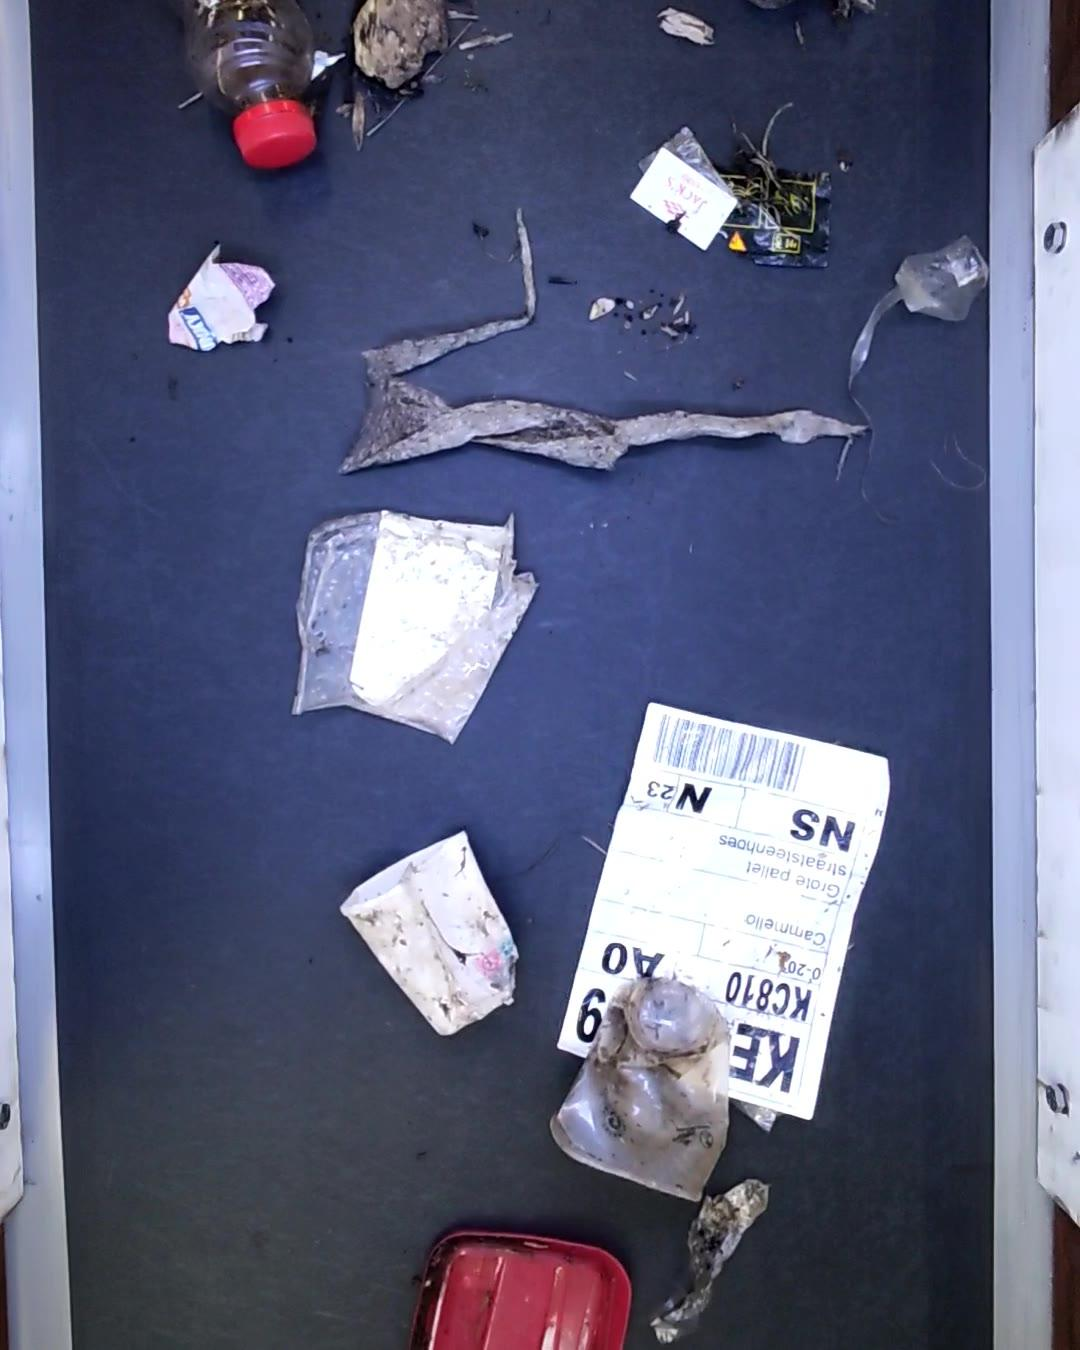Drankflessen - 1-2 liter: (190, 3, 323, 175)
Plastic folies of stukken daarvan 2.5- 50 cm: (337, 206, 864, 484), (292, 511, 541, 745), (852, 235, 991, 522), (638, 1180, 779, 1346)
Snoep snack en chips verpakkingen: (165, 240, 276, 351)
